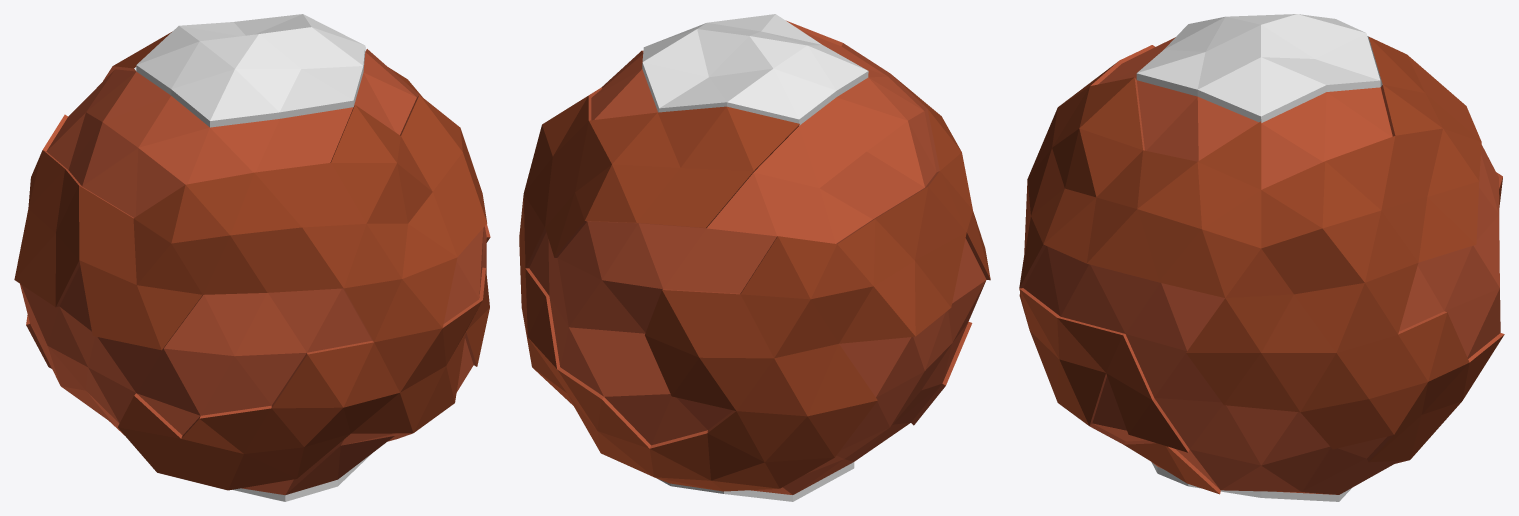
The model's file is mars.glb.
3 renders of one model, left to right at view 1: azimuth 30°, elevation 25°; view 2: azimuth 150°, elevation 25°; view 3: azimuth 270°, elevation 25°, orthographic. The views are drawn at different scales.
Visible parts, largest first — view 1: Icosphere; view 2: Icosphere; view 3: Icosphere.
Boxes of the visible parts, x1=… form: Icosphere: x1=14, y1=14, x2=490, y2=501; Icosphere: x1=519, y1=14, x2=990, y2=501; Icosphere: x1=1019, y1=14, x2=1504, y2=501.
Bounding box in the file's own units: 5.58 × 5.91 × 5.68.
